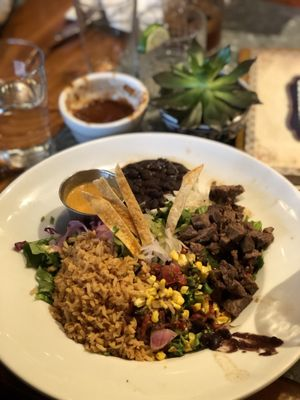pizza: (0, 37, 52, 173), (74, 0, 140, 77)
sushi: (2, 131, 300, 398), (58, 72, 150, 143)
